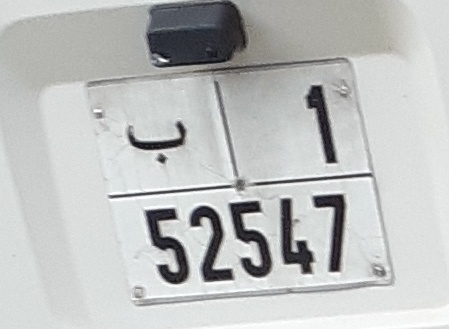1: (295, 76, 342, 168)
2: (189, 202, 237, 283)
4: (277, 195, 320, 277)
5: (138, 204, 192, 288), (227, 196, 275, 281)
7: (310, 189, 356, 278)
b: (122, 116, 194, 169)
